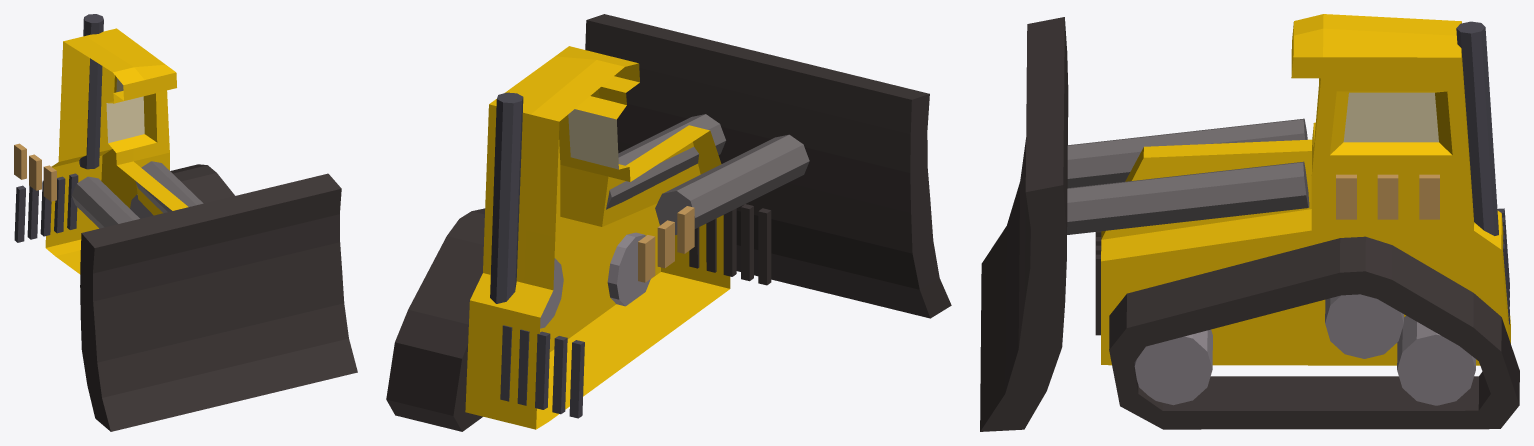
File: dozer.glb
3 renders of one model, left to right at view 1: azimuth 30°, elevation 25°; view 2: azimuth 150°, elevation 25°; view 3: azimuth 270°, elevation 25°, orthographic. The views are drawn at different scales.
Visible parts, largest first — view 1: Arm, Body, Exhaust, Tracks; view 2: Arm, Body, Tracks, Exhaust, Wheels; view 3: Body, Tracks, Arm, Wheels, Exhaust.
Part boxes in pixels (left/top/right/bottom): Arm: left=71, top=161, right=357, bottom=431; Body: left=14, top=28, right=188, bottom=274; Exhaust: left=79, top=14, right=103, bottom=169; Tracks: left=170, top=164, right=234, bottom=203; Arm: left=585, top=14, right=951, bottom=318; Body: left=465, top=46, right=771, bottom=429; Tracks: left=386, top=208, right=485, bottom=431; Exhaust: left=490, top=92, right=523, bottom=303; Wheels: left=540, top=232, right=650, bottom=328; Body: left=1095, top=14, right=1510, bottom=365; Tracks: left=1109, top=236, right=1519, bottom=429; Arm: left=980, top=17, right=1309, bottom=431; Wheels: left=1134, top=294, right=1475, bottom=405; Exhaust: left=1456, top=21, right=1498, bottom=235.
Size of the model in its own units: 2 by 1.94 by 2.71.
1 material, 1 textured.
